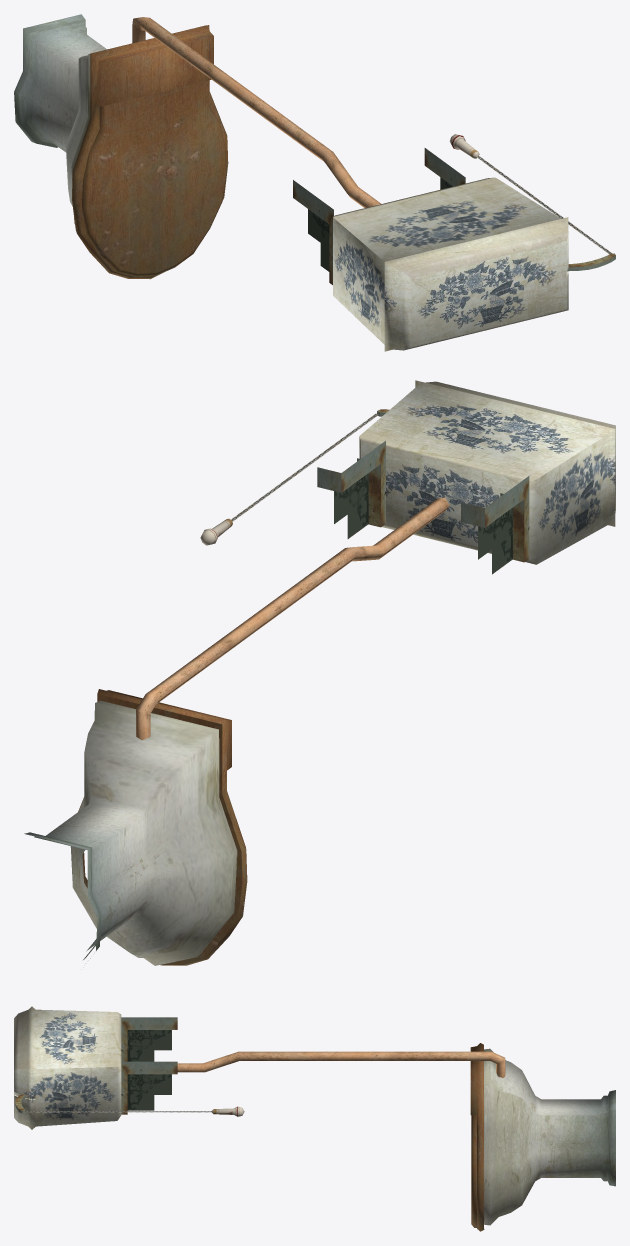
The model's file is furniture_frenchtoilet2.glb.
3 renders of one model, top to bottom at view 1: azimuth 30°, elevation 25°; view 2: azimuth 150°, elevation 25°; view 3: azimuth 270°, elevation 25°, orthographic. The views are drawn at different scales.
Size of the model in its own units: 29.26 by 33.84 by 96.01.
2 materials, 2 textured.
